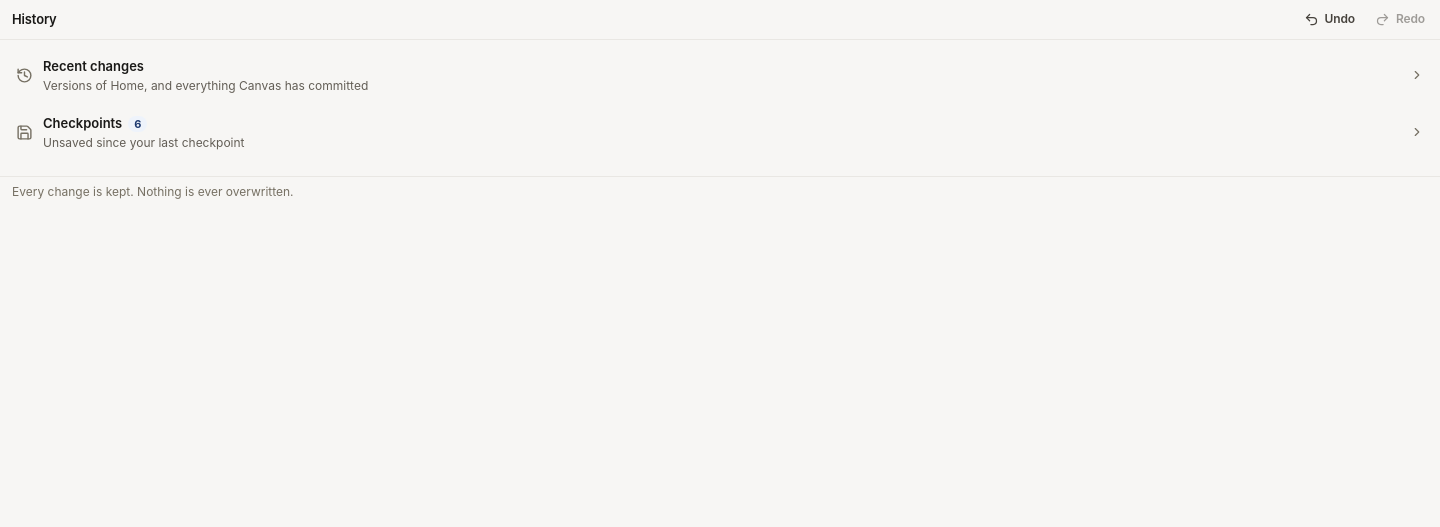
Test: History in the sidebar › expands each section in place and loads it only when opened
What coordinates should you click on to do the following:
click the button "Recent changes"
I would click on:
 (94, 66)
Its box is [8,48,1432,103].
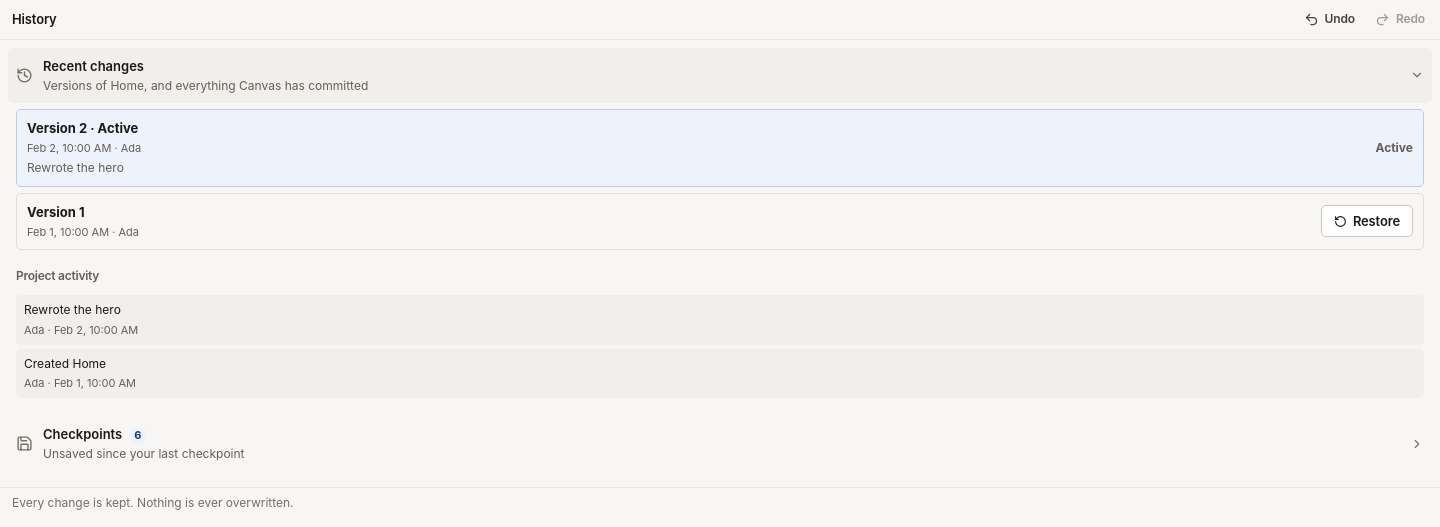
Check: the text "Version 2 · Active" is shown, box [27,118,141,138]
What coordinates should you click on to do the following:
click the button "Checkpoints 6 Unsaved since your last checkpoint"
I would click on:
 (83, 434)
Its box is [8,416,1432,471].
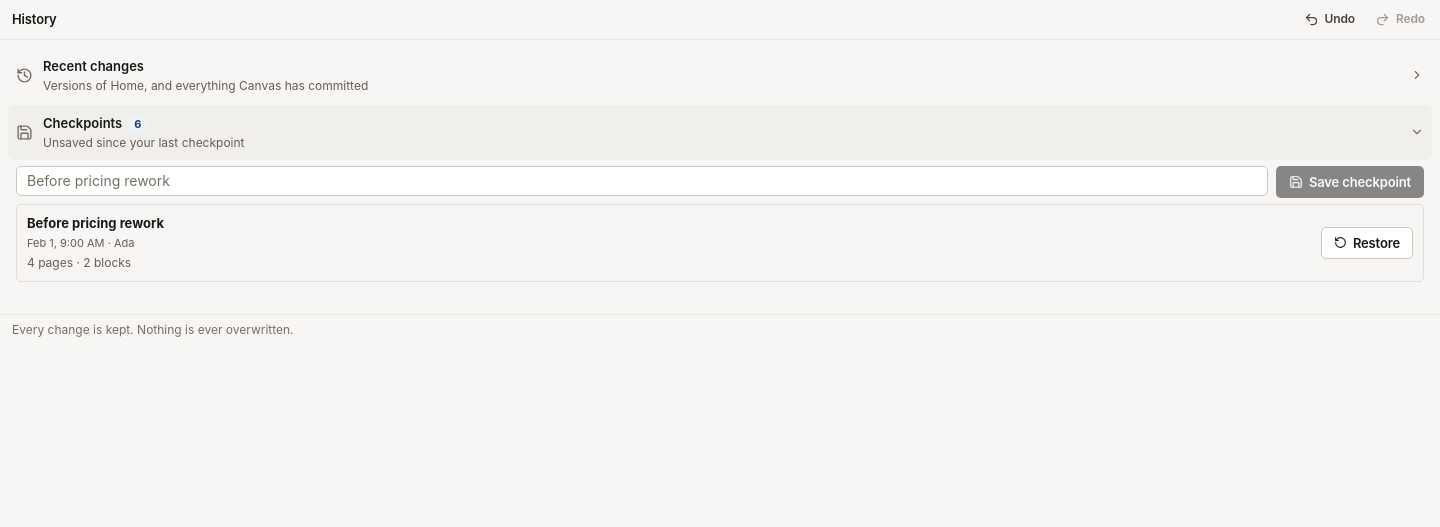
Check: the text "Before pricing rework" is shown, box [27,213,164,233]
What coordinates should you click on to do the following:
click the button "Checkpoints 6 Unsaved since your last checkpoint"
I would click on:
 (83, 123)
Its box is [8,105,1432,160].
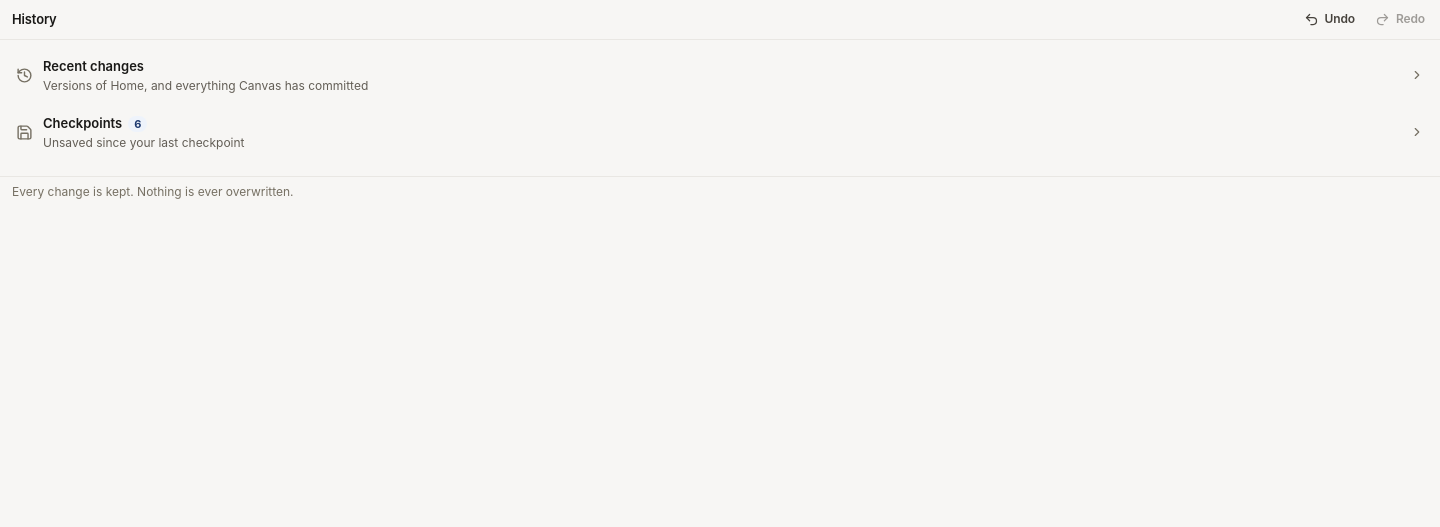
Check: the text "Before pricing rework" is gone
